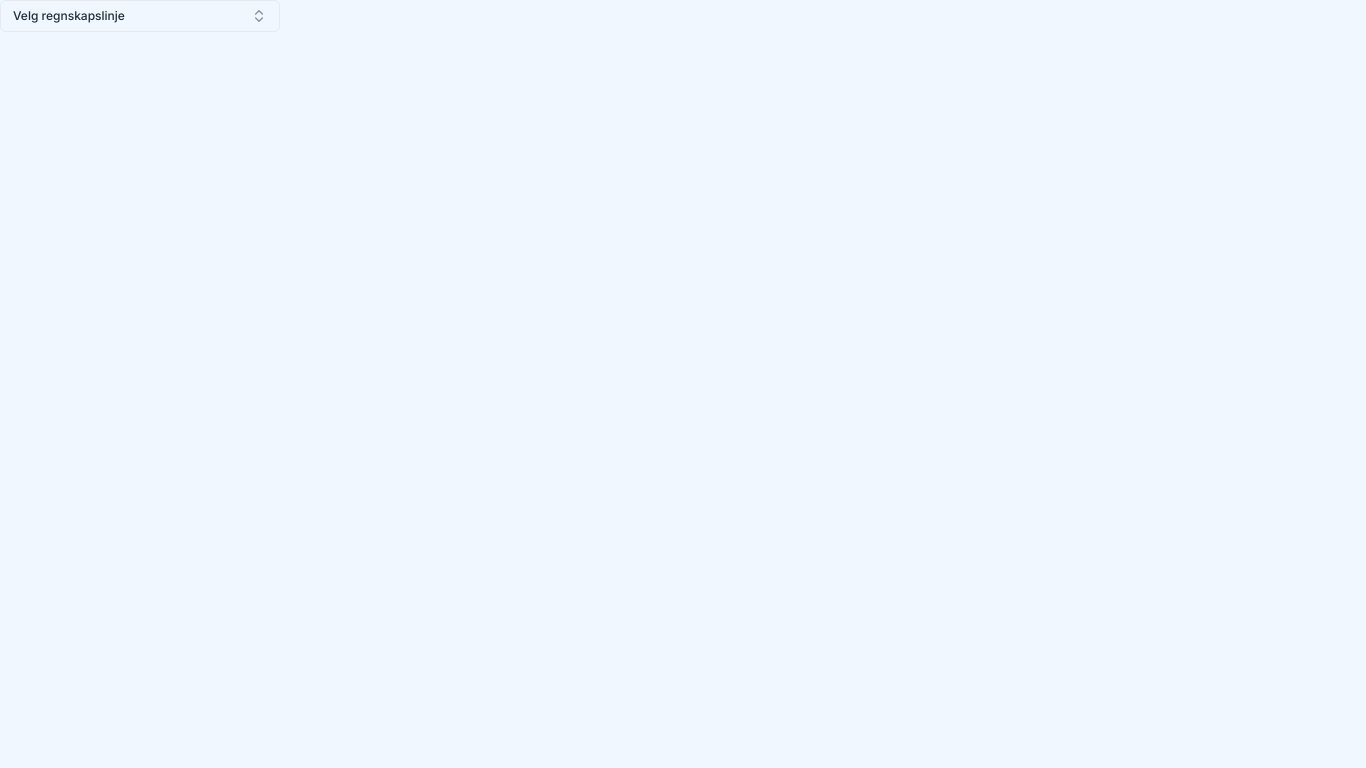
Test: MappingCombobox › virtualizes large lists (renders fewer DOM items than total)
The width and height of the screenshot is (1366, 768).
Click the button at (69, 16), box x1=0 y1=0 x2=280 y2=32
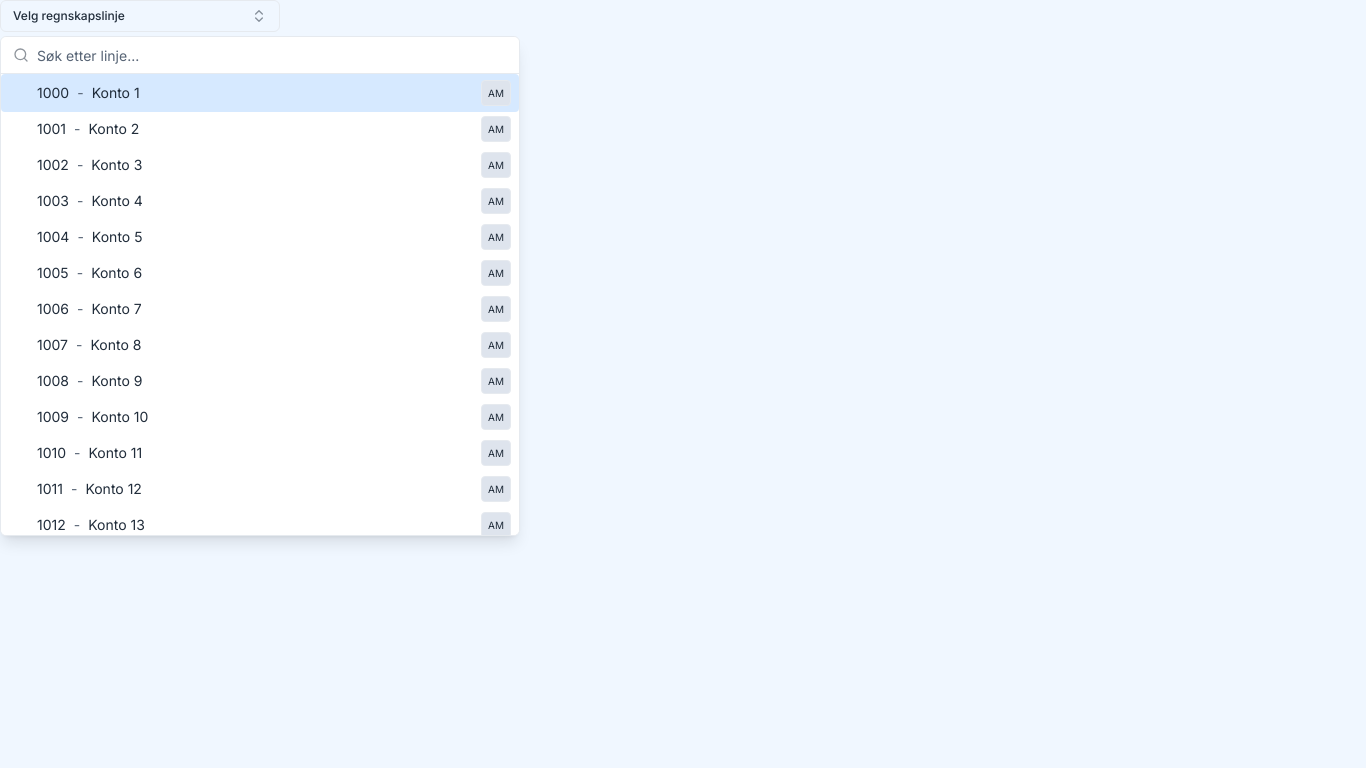
Expected: the option "1000 - Konto 1 AM" is shown, x1=1 y1=74 x2=519 y2=112
